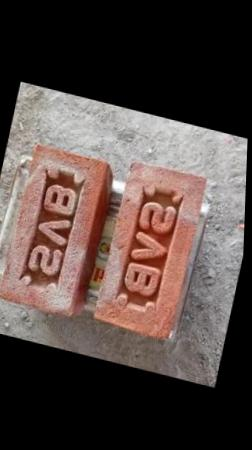brick: (93, 152, 212, 343), (0, 138, 113, 319)
